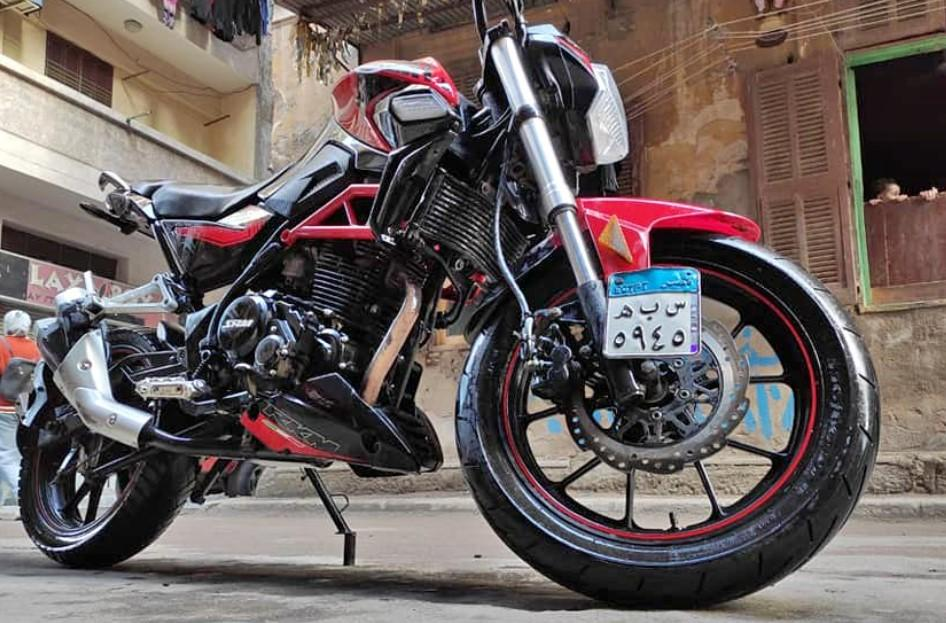License Plate: (603, 272, 707, 359)
